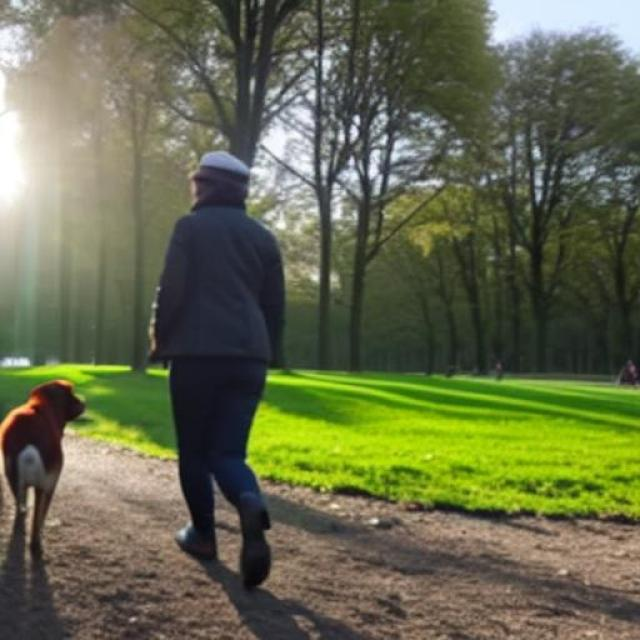Unleashed_Dog: (0, 359, 252, 563)
